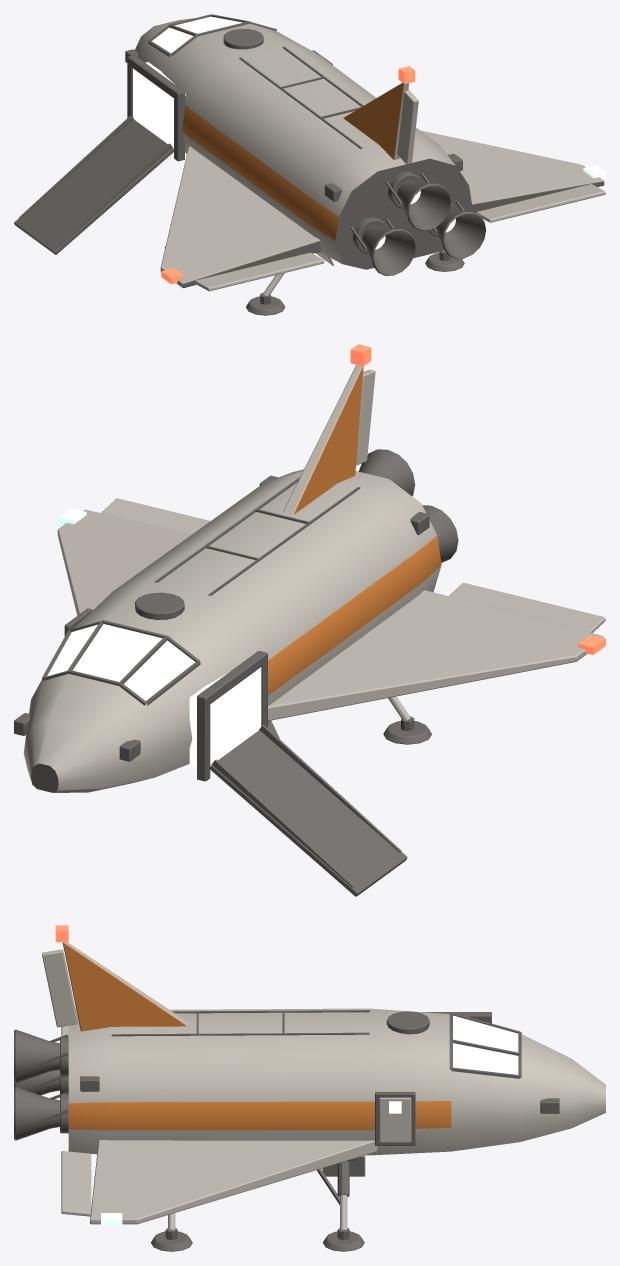
Rendered from shuttle.glb.
3 views of the same model, one above another, from view 1: azimuth 30°, elevation 25°; view 2: azimuth 150°, elevation 25°; view 3: azimuth 270°, elevation 25° (orthographic). The views are drawn at different scales.
Visible parts, largest first — view 1: shuttle; view 2: shuttle; view 3: shuttle.
Part boxes in pixels (x1,y1,x2,y2): shuttle: (14, 14, 605, 315); shuttle: (14, 344, 605, 896); shuttle: (14, 925, 605, 1251).
Bounding box in the file's own units: 12.36 × 6.9 × 13.77.
